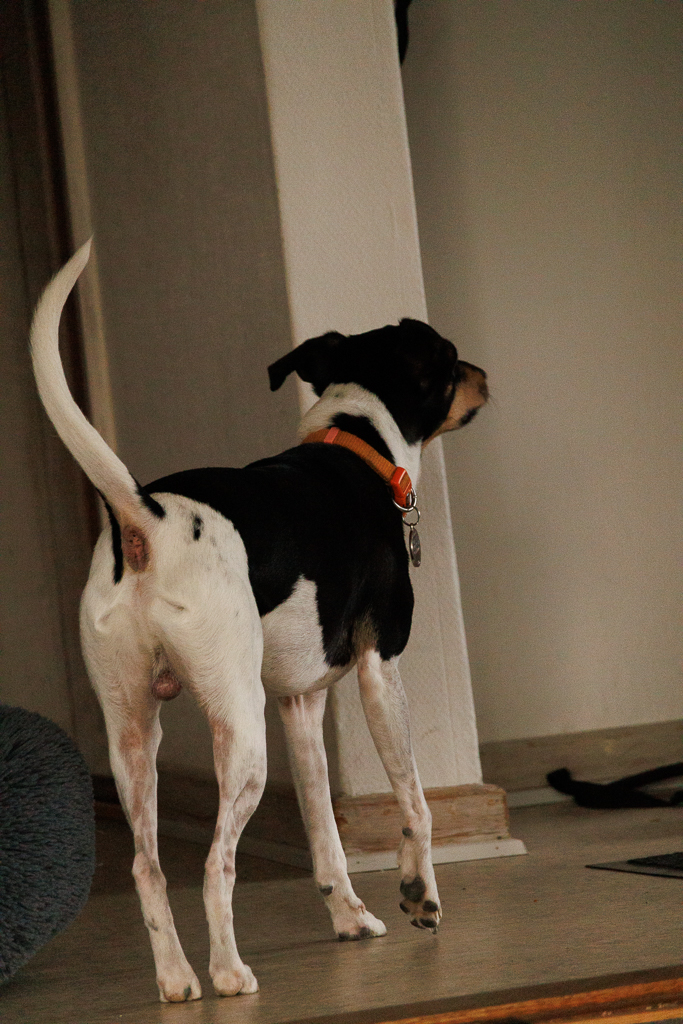Dog: (21, 236, 508, 1008)
